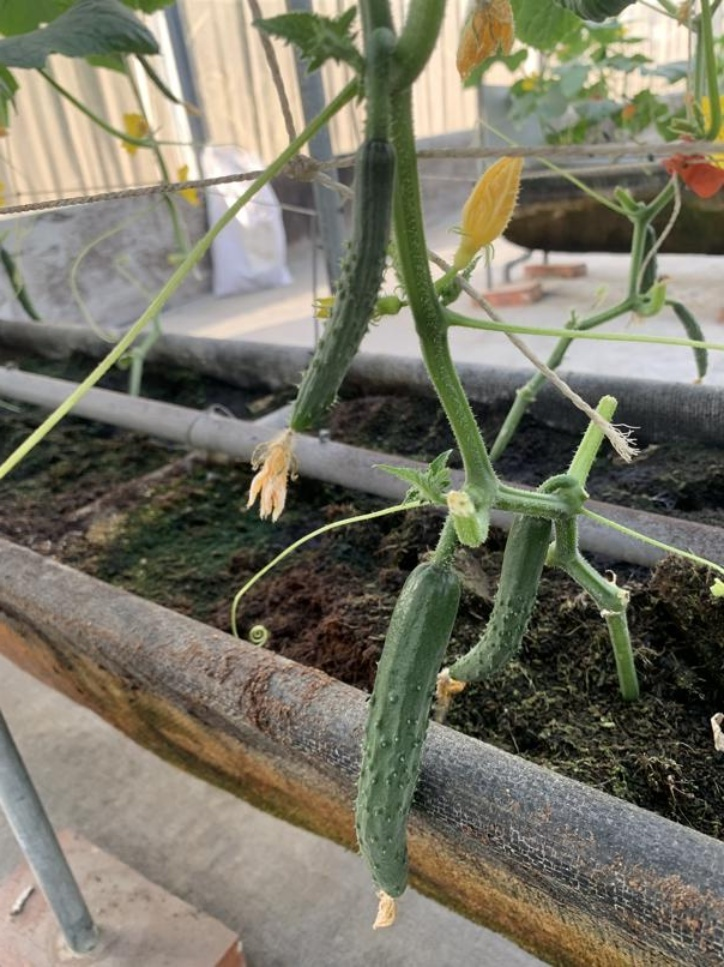bud: (450, 155, 536, 285)
growth: (230, 137, 398, 527), (445, 500, 549, 690)
mature: (347, 562, 464, 918)
